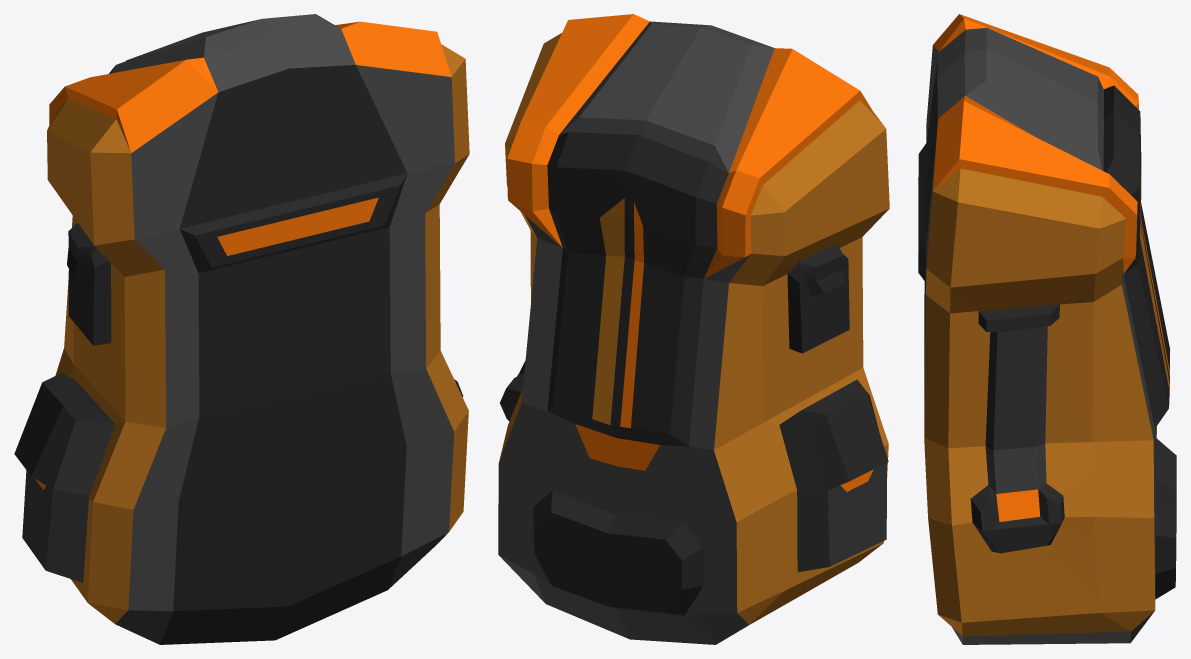
File: SM_Chr_Attach_Backpack_01.fbx
3 views of the same model, side by side, from view 1: azimuth 30°, elevation 25°; view 2: azimuth 150°, elevation 25°; view 3: azimuth 270°, elevation 25° (orthographic). The views are drawn at different scales.
Visible parts, largest first — view 1: SM_Chr_Attach_Backpack_01; view 2: SM_Chr_Attach_Backpack_01; view 3: SM_Chr_Attach_Backpack_01.
Boxes of the visible parts, <box> form: SM_Chr_Attach_Backpack_01: <box>14,14,469,644</box>; SM_Chr_Attach_Backpack_01: <box>498,14,889,644</box>; SM_Chr_Attach_Backpack_01: <box>918,14,1176,644</box>.
Size of the model in its own units: 34.28 by 48.21 by 19.86.
